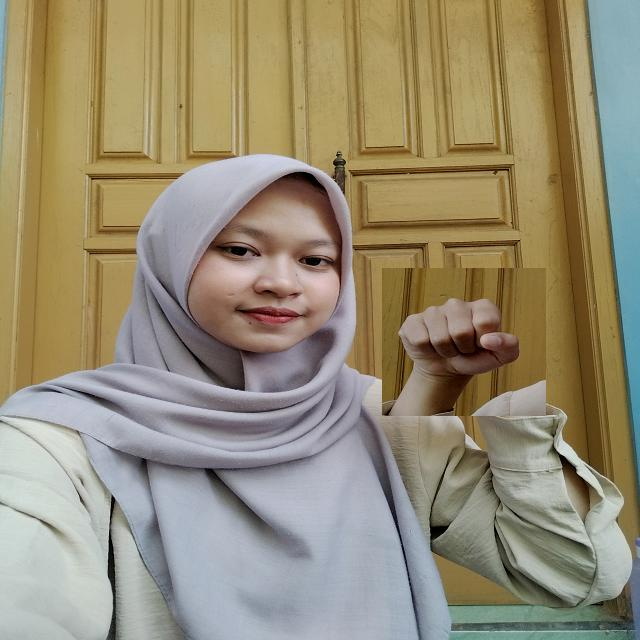baik: (382, 268, 546, 416)
